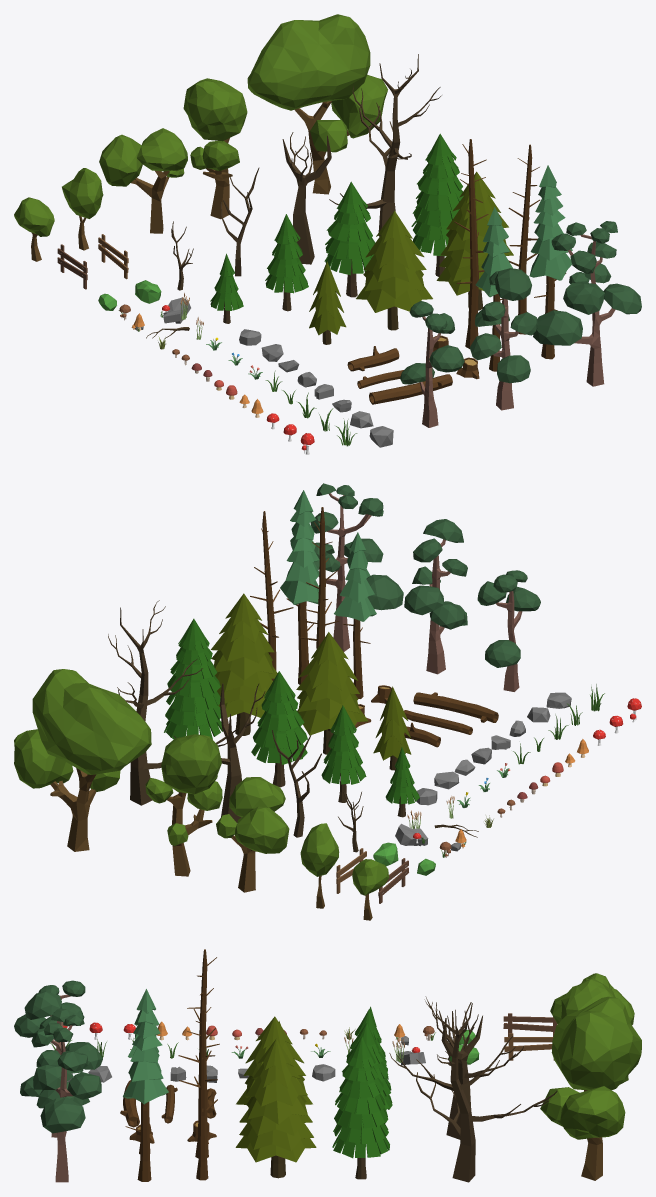
Rendered from pack.gltf.
3 renders of one model, top to bottom at view 1: azimuth 30°, elevation 25°; view 2: azimuth 150°, elevation 25°; view 3: azimuth 270°, elevation 25°, orthographic.
Parts seen in each view (by area): view 1: Tree1_1, Tree6_1, Tree1_2, Tree4_2, Tree6_2, Tree1_3, Tree3_1, Tree4_1, Tree3_2, Tree5_3, Tree6_3, Tree2_1 (+12 smaller); view 2: Tree1_1, Tree1_2, Tree4_1, Tree3_1, Tree6_1, Tree1_3, Tree6_2, Tree4_2, Tree3_2, Tree5_3, Tree6_3, Tree5_4 (+13 smaller); view 3: Tree1_1, Tree4_1, Tree6_1, Tree3_1, Tree5_3, Tree2_1, Tree6_2, Tree4_2, Tree5_1, Tree2_2, Tree1_2, Tree6_3 (+9 smaller).
Boxes of the visible parts, bbox=[...] form: Tree1_1: bbox=[247, 14, 387, 194]; Tree6_1: bbox=[533, 221, 641, 386]; Tree1_2: bbox=[183, 78, 247, 219]; Tree4_2: bbox=[356, 210, 432, 330]; Tree6_2: bbox=[469, 268, 538, 410]; Tree1_3: bbox=[99, 128, 187, 233]; Tree3_1: bbox=[411, 133, 463, 276]; Tree4_1: bbox=[436, 171, 513, 310]; Tree3_2: bbox=[324, 181, 375, 297]; Tree5_3: bbox=[529, 165, 572, 359]; Tree6_3: bbox=[400, 301, 464, 427]; Tree2_1: bbox=[329, 54, 441, 236]; Tree1_1: bbox=[14, 669, 151, 851]; Tree1_2: bbox=[145, 734, 222, 876]; Tree4_1: bbox=[211, 593, 277, 735]; Tree3_1: bbox=[164, 618, 222, 739]; Tree6_1: bbox=[310, 483, 403, 651]; Tree1_3: bbox=[216, 777, 289, 892]; Tree6_2: bbox=[404, 519, 467, 674]; Tree4_2: bbox=[296, 632, 368, 754]; Tree3_2: bbox=[251, 671, 307, 787]; Tree5_3: bbox=[280, 490, 319, 684]; Tree6_3: bbox=[477, 570, 540, 691]; Tree5_4: bbox=[334, 532, 376, 698]; Tree1_1: bbox=[540, 996, 641, 1180]; Tree4_1: bbox=[235, 1038, 316, 1178]; Tree6_1: bbox=[31, 1008, 101, 1182]; Tree3_1: bbox=[332, 1036, 389, 1179]; Tree5_3: bbox=[123, 989, 168, 1181]; Tree2_1: bbox=[389, 996, 557, 1182]; Tree6_2: bbox=[20, 992, 102, 1137]; Tree4_2: bbox=[236, 1016, 312, 1106]; Tree5_1: bbox=[179, 996, 219, 1180]; Tree2_2: bbox=[431, 1002, 523, 1139]; Tree1_2: bbox=[561, 978, 628, 1084]; Tree6_3: bbox=[14, 980, 85, 1069].
Size of the model in its own units: 16.39 by 9.06 by 24.42.
